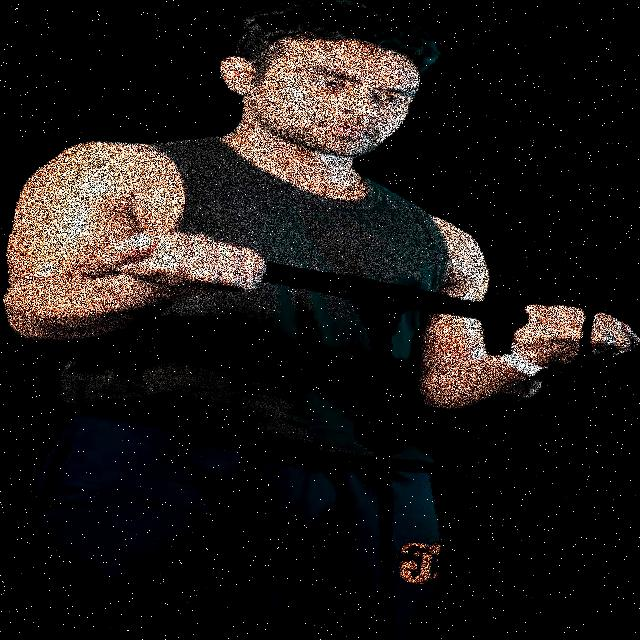Pessoa: (0, 0, 480, 639)
